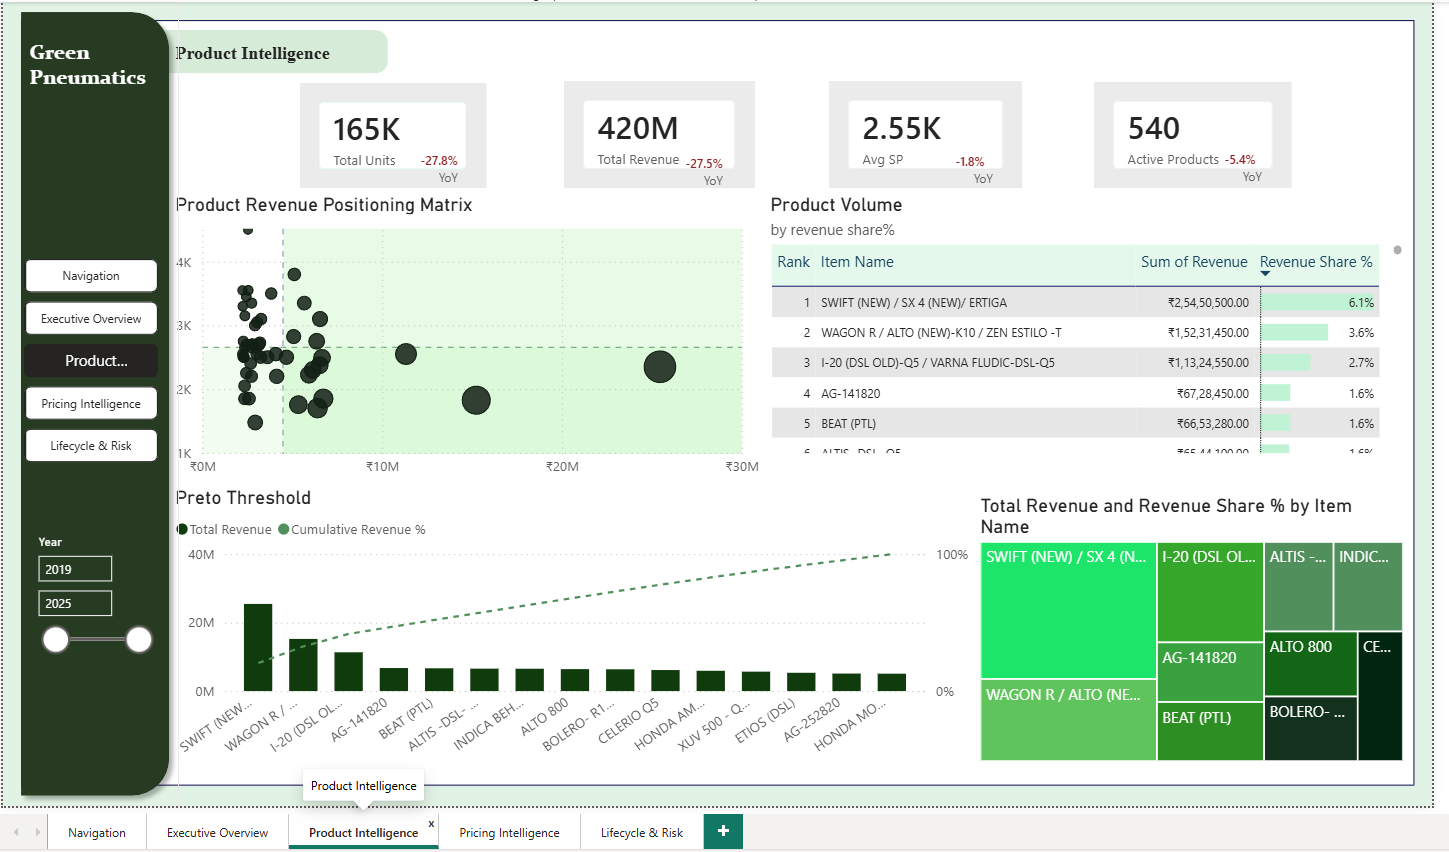

This screenshot's page, from the dashboard's own definition file:
{"tool":"powerbi","page":{"name":"Product Intelligence","canvas":[1280,720],"ordinal":2},"visuals":[{"type":"shape","box":[16.5,16.5,1247.9,685.7],"z":0},{"type":"scatterChart","title":"Product Revenue Positioning Matrix","fields":{"X":["Sum(Master Sales Database.Revenue)"],"Y":["Master Sales Database.Avg SP"],"Category":["Master Sales Database.Item Name"],"Size":["Master Sales Database.Total Units"]},"box":[149.8,171.2,533,262.6],"z":1000},{"type":"treemap","fields":{"Group":["Master Sales Database.Item Name"],"Values":["Master Sales Database.Total Revenue"]},"box":[870.5,440.6,388.1,244.1],"z":2000},{"type":"tableEx","title":"Product Volume","fields":{"Values":["Master Sales Database.Revenue Rank","Master Sales Database.Item Name","Sum(Master Sales Database.Revenue)","Master Sales Database.Revenue Share %"]},"box":[682.8,171.2,575.8,238.3],"z":3000},{"type":"lineClusteredColumnComboChart","title":"Preto Threshold","fields":{"Category":["Master Sales Database.Item Name"],"Y":["Master Sales Database.Total Revenue"],"Y2":["Master Sales Database.Cumulative Revenue %"]},"box":[149.6,433.4,720.9,251.6],"z":4000},{"type":"cardVisual","fields":{"Data":["Master Sales Database.Total Units"]},"box":[266.2,72.5,166.6,94.1],"z":5000},{"type":"cardVisual","fields":{"Data":["Master Sales Database.Total Revenue"]},"box":[502,70.3,171,96.3],"z":6000},{"type":"cardVisual","fields":{"Data":["Master Sales Database.Average SP"]},"box":[740.1,70.3,173.1,96.3],"z":7000},{"type":"cardVisual","fields":{"Data":["Master Sales Database.Active Products"]},"box":[977,71.4,177.4,95.2],"z":8000},{"type":"cardVisual","fields":{"Data":["Master Sales Database.Latest YoY Growth %"]},"box":[581.7,120.3,109,64.4],"z":9000},{"type":"cardVisual","fields":{"Data":["Master Sales Database.Latest Units YoY %"]},"box":[344.9,117.5,109,64.4],"z":10000},{"type":"cardVisual","fields":{"Data":["Master Sales Database.YoY Avg SP %"]},"box":[824.3,118.4,109,64.4],"z":11000},{"type":"cardVisual","fields":{"Data":["Master Sales Database.Latest Active Products YoY %"]},"box":[1064.9,116.5,109,64.4],"z":12000},{"type":"shape","box":[29.4,24.6,315.5,38.8],"z":13000},{"type":"textbox","box":[149.7,32.2,177.2,31.3],"z":14000},{"type":"shape","box":[6.8,0,150.8,719.8],"z":15000},{"type":"textbox","box":[18.9,27.5,127.9,71.1],"z":16000},{"type":"pageNavigator","box":[19,230.2,120.3,183],"z":17000},{"type":"slicer","fields":{"Values":["Master Sales Database.Year"]},"box":[18.9,471.8,124.1,131.7],"z":18000}]}

Visuals, with their boxes on the page's 1280x720 design canvas (x1, y1, x2, y2). These are canvas units, not pixel positions in the 1449x852 screenshot, which may show the page scaled, cropped or inside an application window:
shape: region(16, 16, 1264, 702)
"Product Revenue Positioning Matrix" scatterChart: region(150, 171, 683, 434)
treemap - Master Sales Database.Item Name x Master Sales Database.Total Revenue: region(870, 441, 1259, 685)
"Product Volume" tableEx: region(683, 171, 1259, 410)
"Preto Threshold" lineClusteredColumnComboChart: region(150, 433, 870, 685)
cardVisual - Master Sales Database.Total Units: region(266, 72, 433, 167)
cardVisual - Master Sales Database.Total Revenue: region(502, 70, 673, 167)
cardVisual - Master Sales Database.Average SP: region(740, 70, 913, 167)
cardVisual - Master Sales Database.Active Products: region(977, 71, 1154, 167)
cardVisual - Master Sales Database.Latest YoY Growth %: region(582, 120, 691, 185)
cardVisual - Master Sales Database.Latest Units YoY %: region(345, 118, 454, 182)
cardVisual - Master Sales Database.YoY Avg SP %: region(824, 118, 933, 183)
cardVisual - Master Sales Database.Latest Active Products YoY %: region(1065, 116, 1174, 181)
shape: region(29, 25, 345, 63)
textbox: region(150, 32, 327, 64)
shape: region(7, 0, 158, 720)
textbox: region(19, 28, 147, 99)
pageNavigator: region(19, 230, 139, 413)
slicer - Master Sales Database.Year: region(19, 472, 143, 604)
